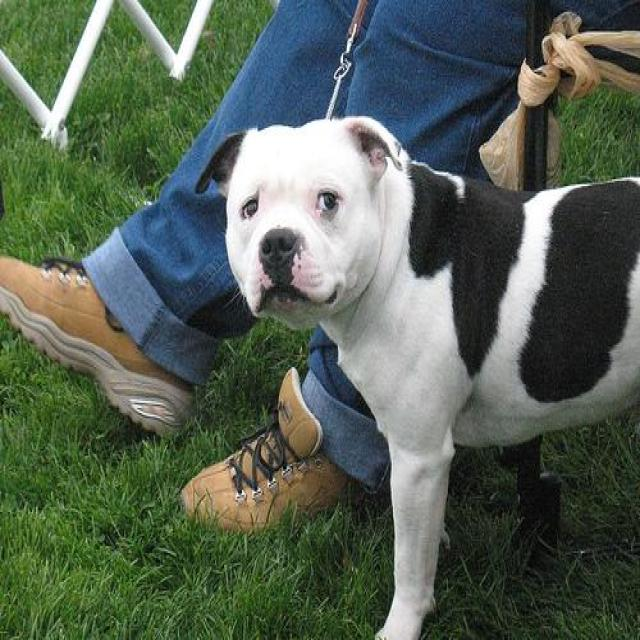staffordshire_bullterrier: (192, 114, 639, 638)
